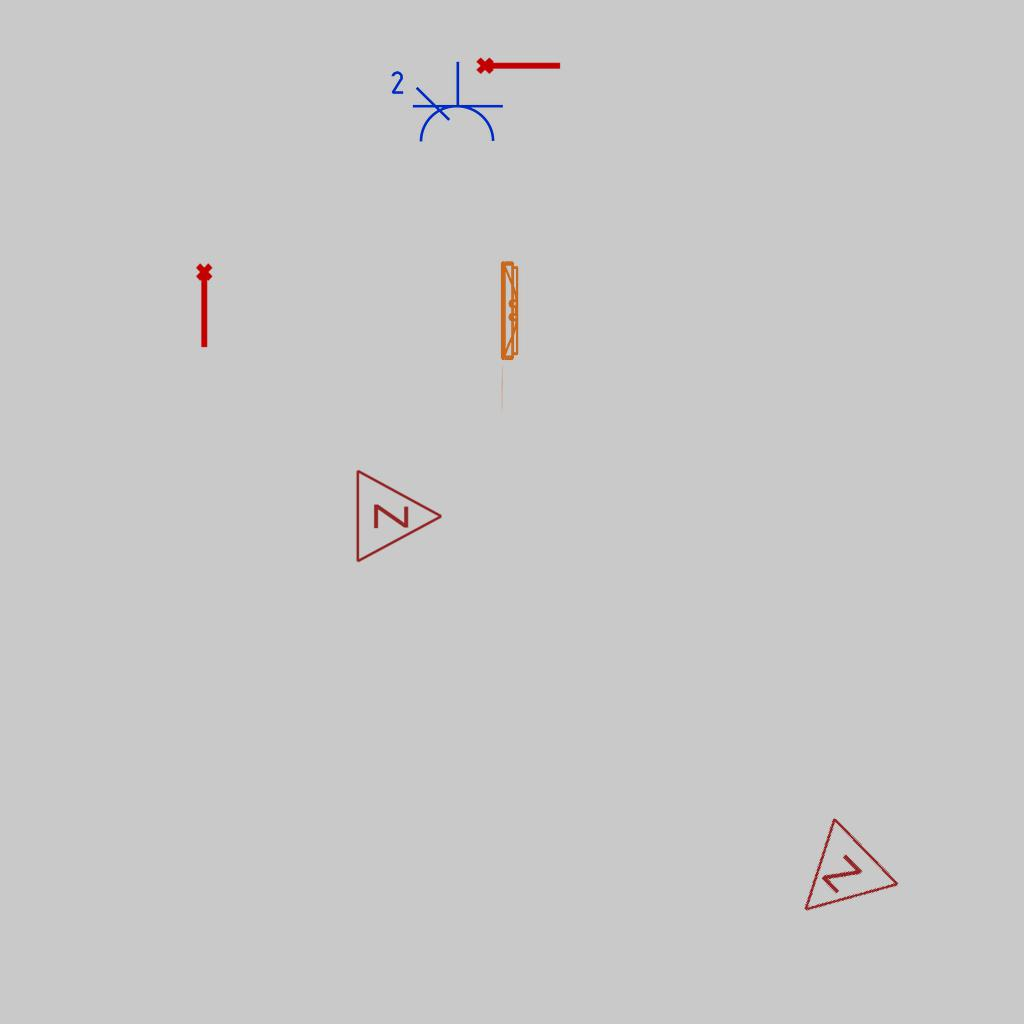ASR_Ansaugoeffnung: (194, 262, 217, 350), (475, 53, 563, 76)
Schukosteckdose_mehrfach: (384, 60, 505, 148)
Sicherheitsleuchte_Wandeinbau: (498, 256, 523, 415)
Zimmersignalleuchte: (766, 811, 908, 951), (349, 466, 449, 564)
